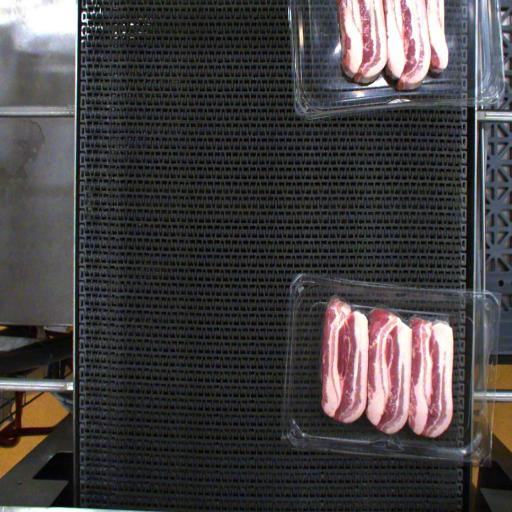unsealed: (326, 294, 462, 344)
